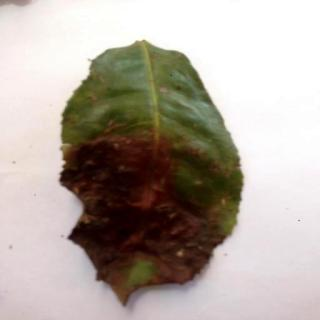Algal Leaf: (60, 39, 245, 306)
